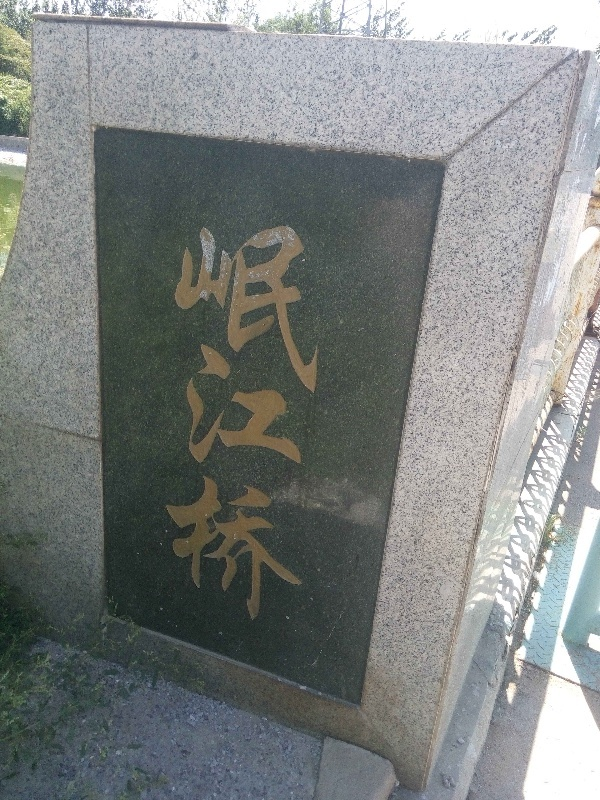text: (177, 228, 192, 628), (193, 228, 208, 628), (209, 228, 224, 628), (225, 228, 240, 628), (241, 228, 256, 628), (257, 228, 272, 628), (273, 228, 288, 628), (289, 228, 304, 628), (305, 228, 320, 628), (167, 228, 176, 628), (321, 228, 323, 628)
